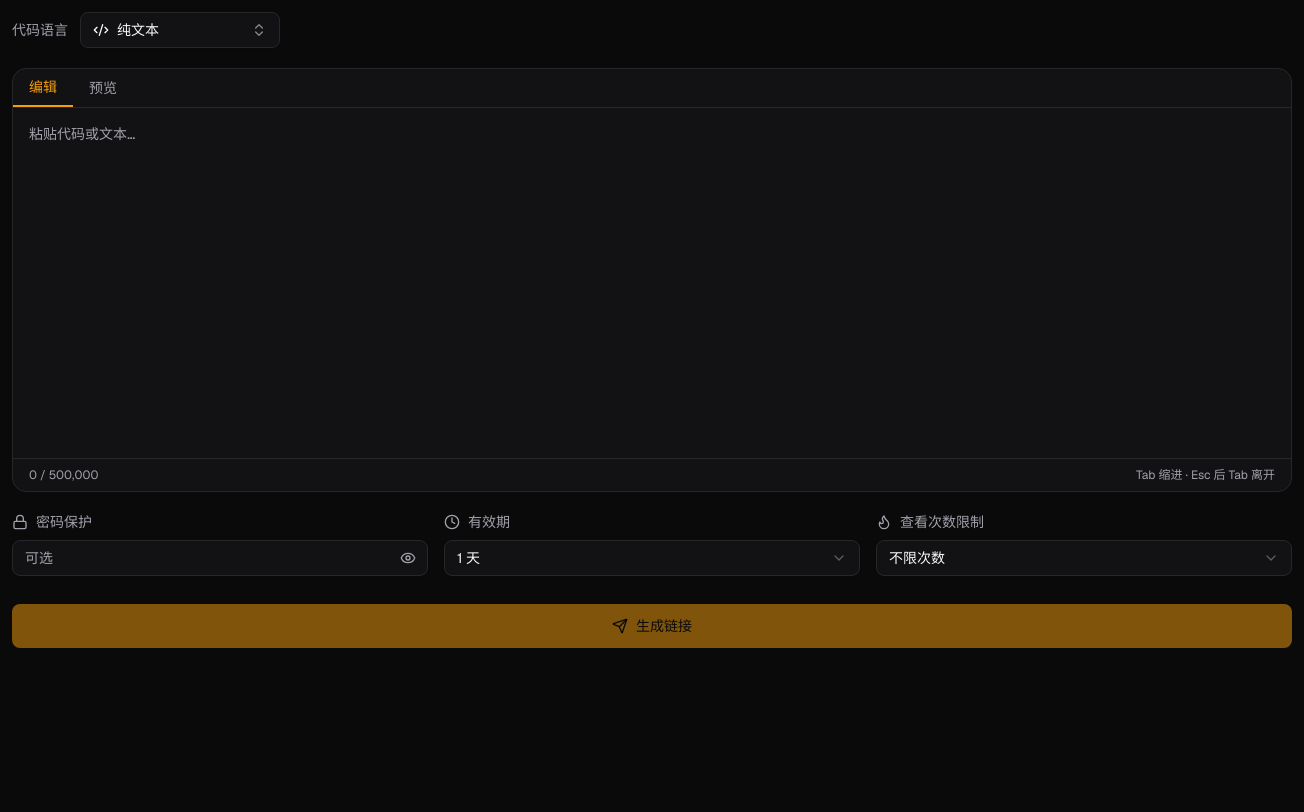
Test: 创建内容 › 显示 400 服务端错误并保留输入以便重试
Type "不能丢失的内容" into the text box named "代码或文本内容" at (652, 283), box [13,108,1291,458]
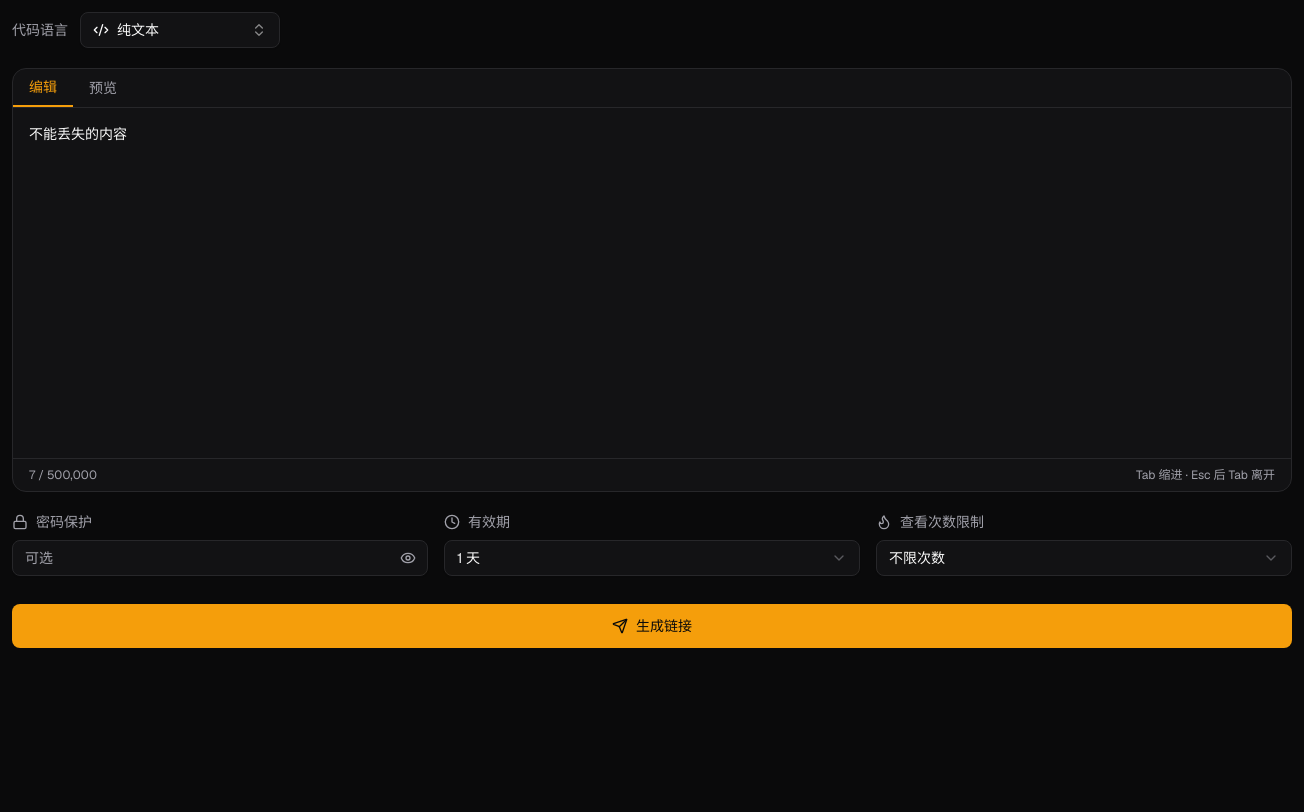
Click the button "生成链接" at (652, 626), box [12,604,1292,648]
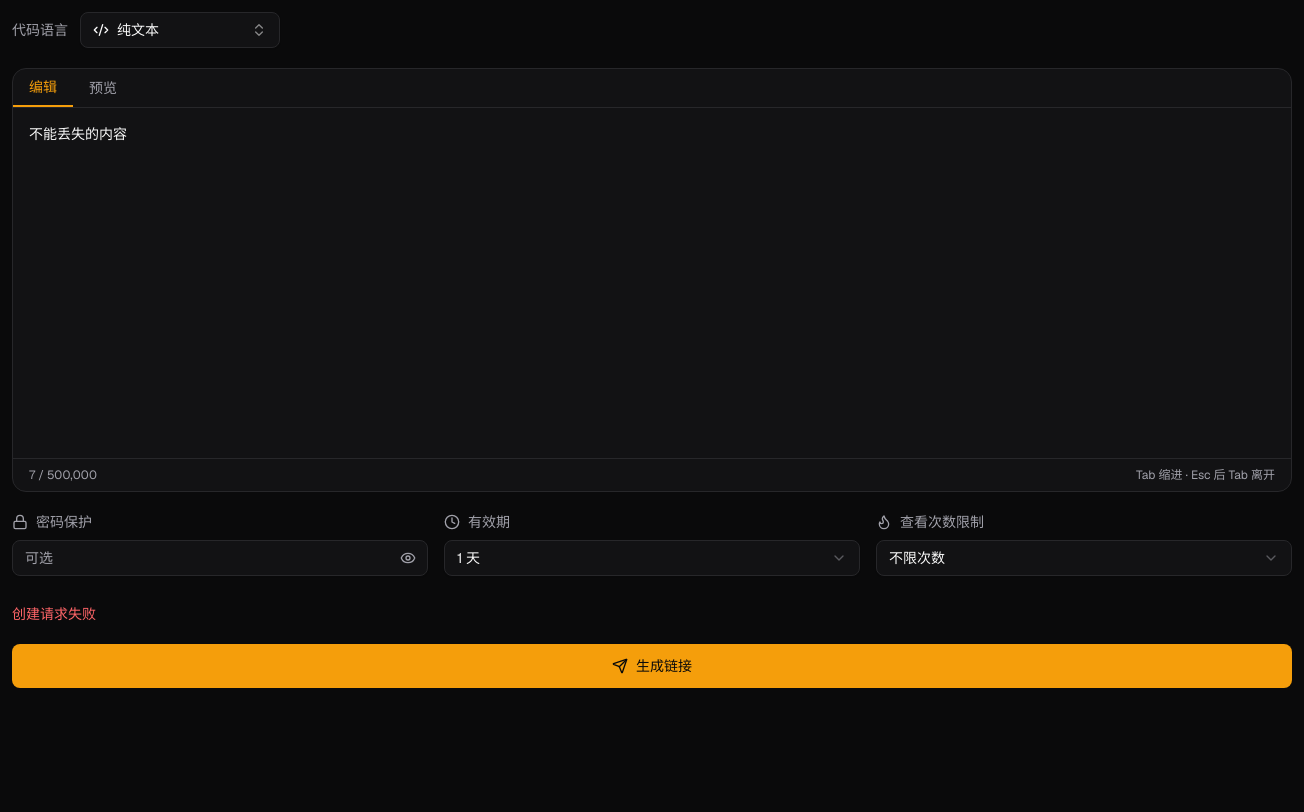
Check: the button "生成链接" is enabled, box [12,644,1292,688]
Check: the message reads "创建请求失败", box [12,605,96,623]
